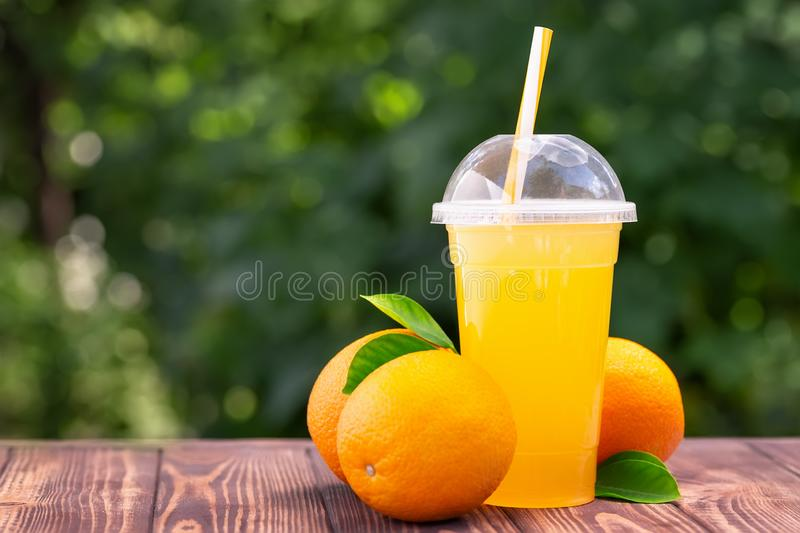plastic_glass: (425, 125, 641, 511)
